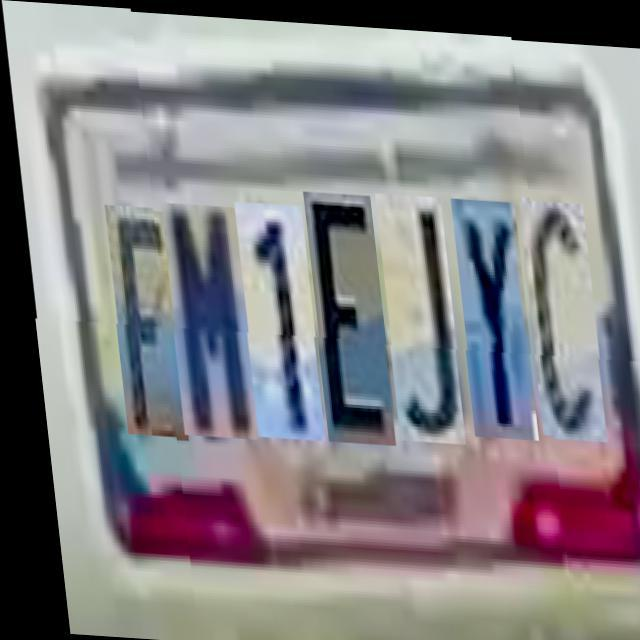1: (230, 198, 318, 438)
C: (516, 190, 600, 432)
E: (299, 187, 388, 441)
F: (100, 207, 180, 439)
J: (371, 188, 458, 438)
M: (157, 200, 250, 437)
Y: (446, 192, 530, 434)
